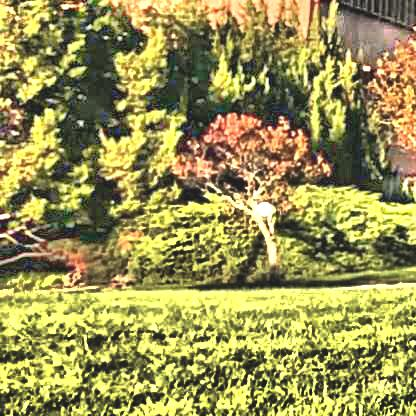golfball: (253, 198, 270, 215)
